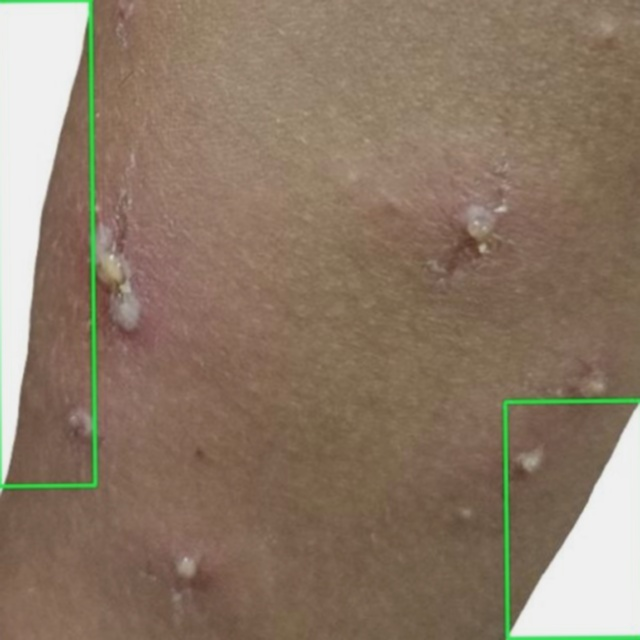Scabies: (0, 0, 95, 486), (505, 401, 639, 639)
